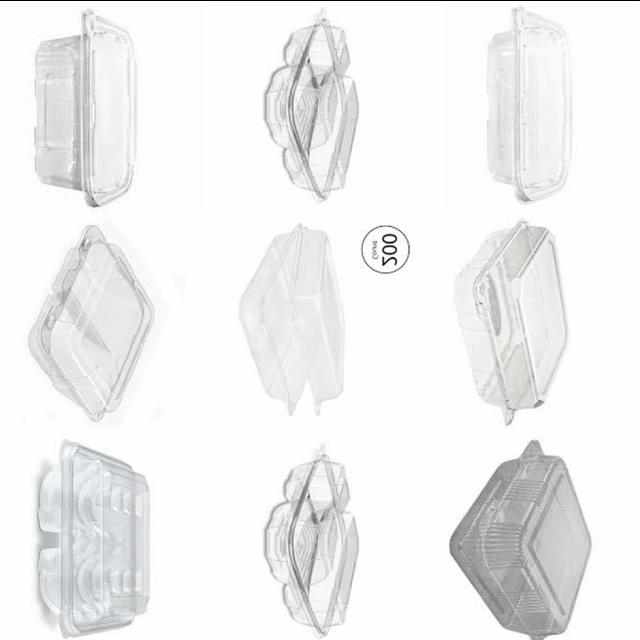plastik: (451, 440, 591, 640), (29, 226, 154, 420), (456, 221, 567, 423), (39, 440, 150, 637), (35, 10, 136, 206), (241, 224, 344, 413), (266, 453, 359, 635), (266, 19, 358, 199), (489, 7, 571, 201)
